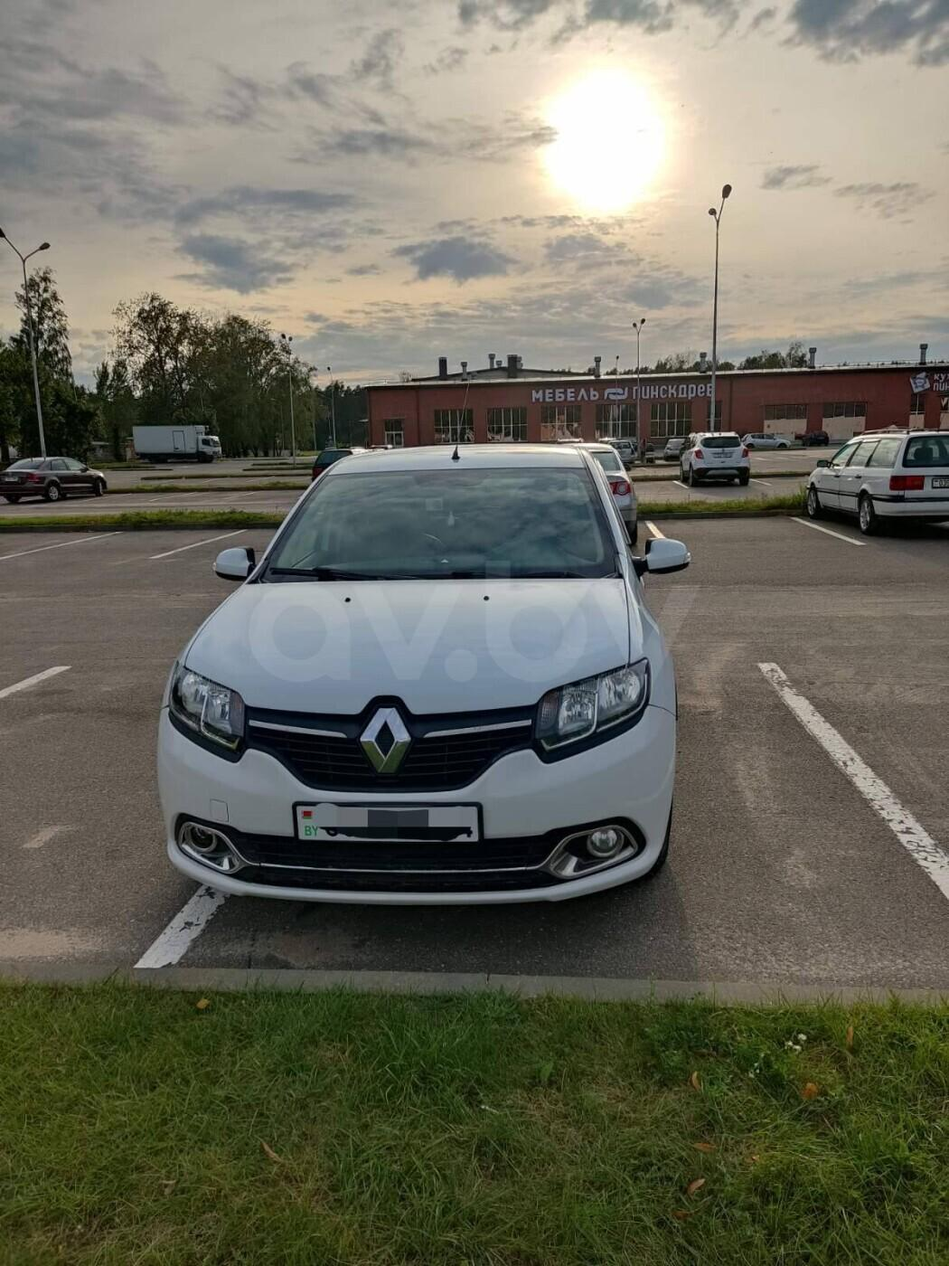Logan_2013-2018: (148, 443, 692, 910)
